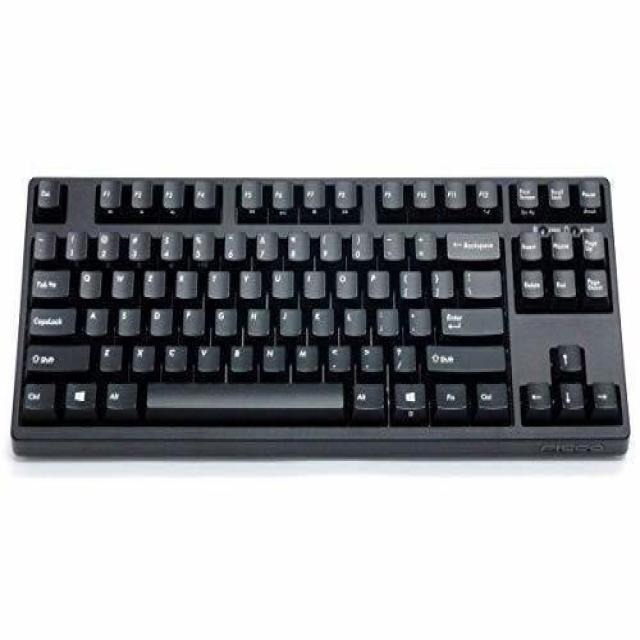keyboard: (8, 175, 629, 464)
